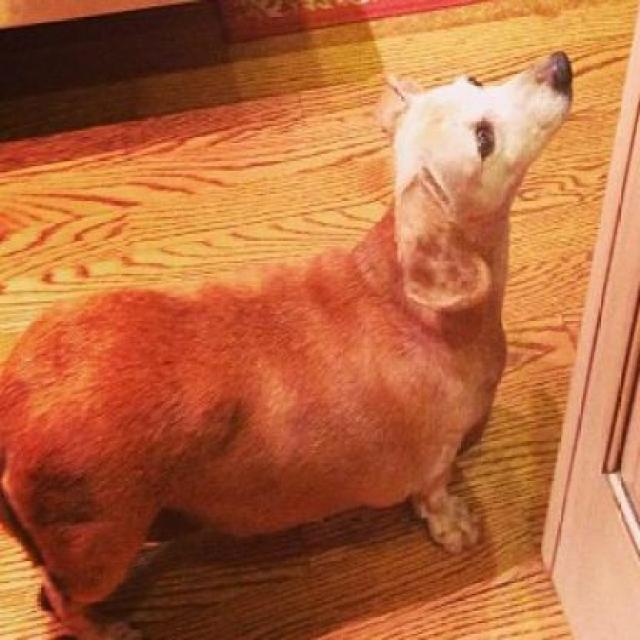Dog: (0, 51, 577, 638)
